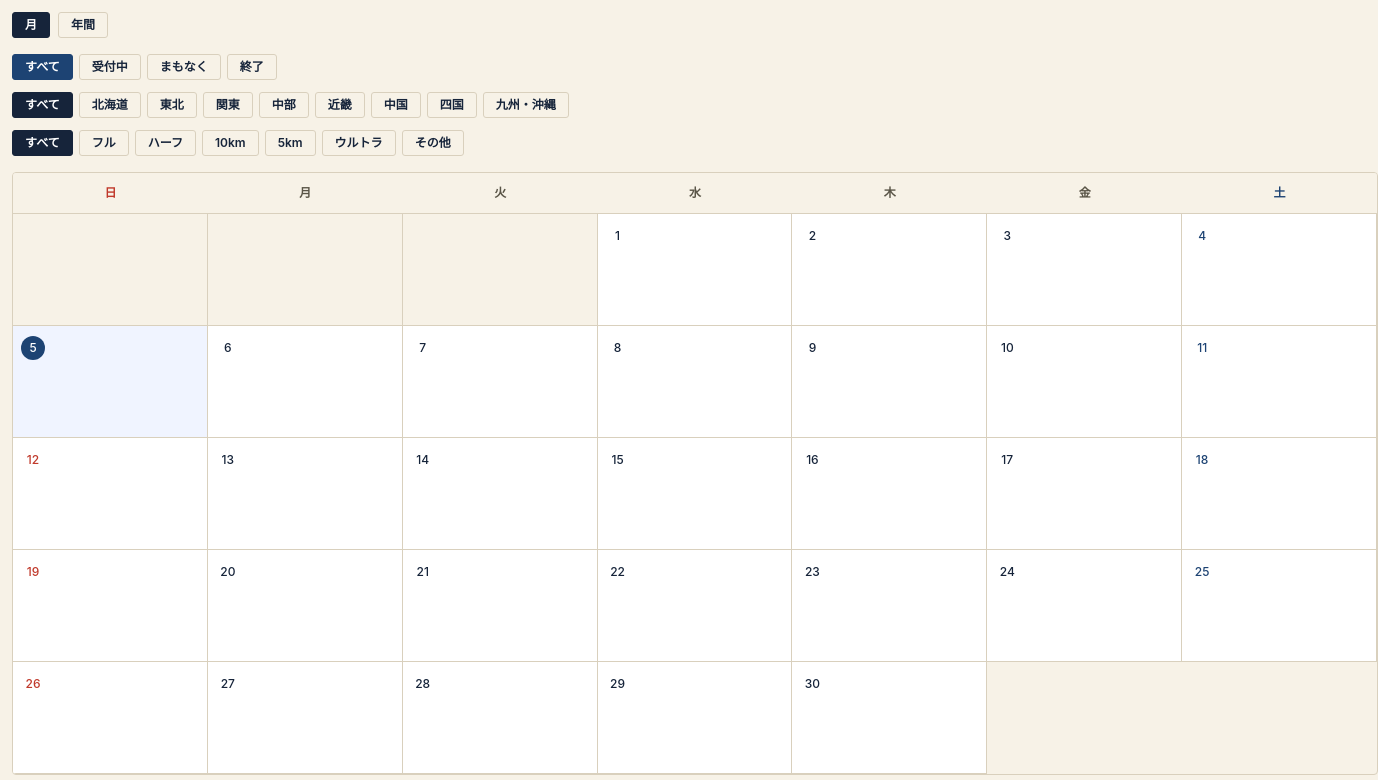
Scenario: CalendarView › 月表示ボタンでMonthGridに戻る
Click the button "年間". click: click(83, 25)
box: [58,12,108,38]
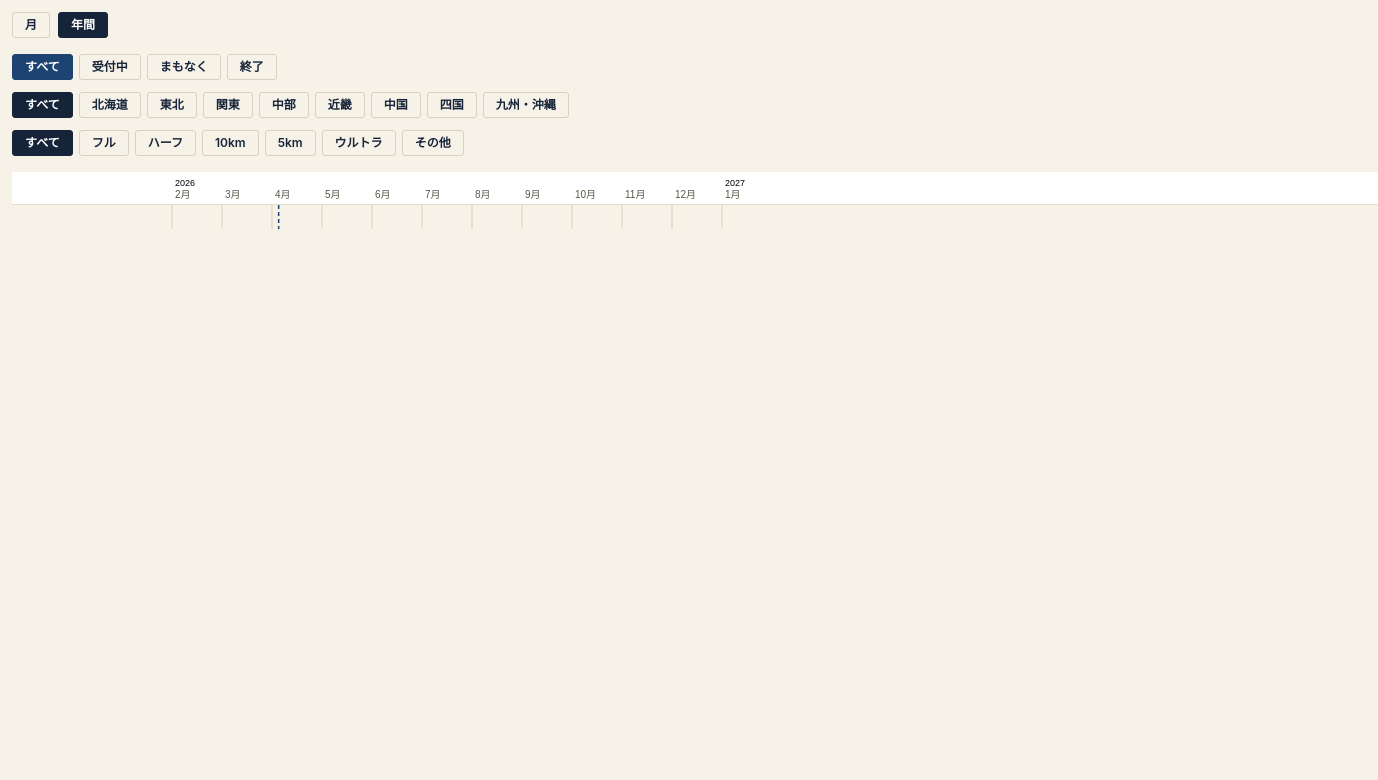
Click the button "月". click: click(31, 25)
box: [12,12,50,38]
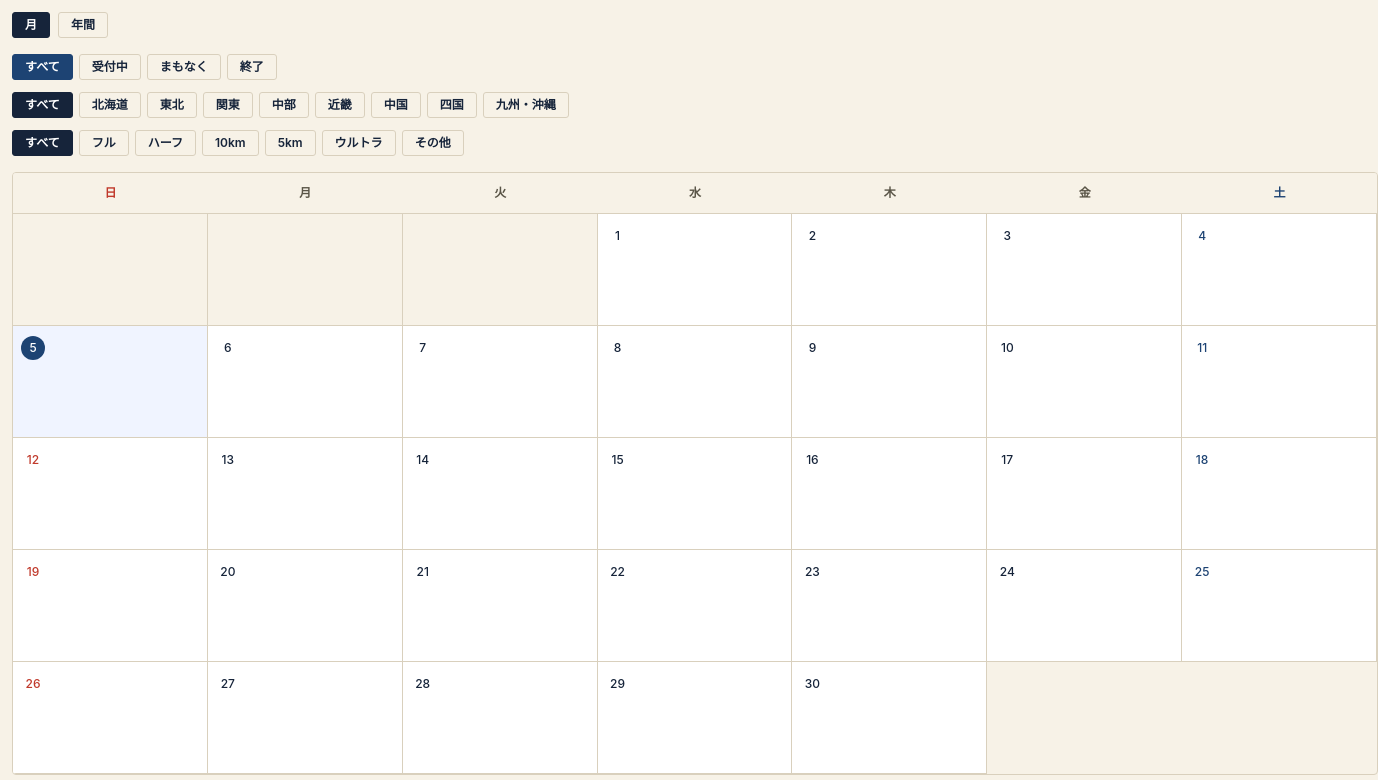
Check: the element with class "grid-cols-7" showing "日 月 火 水 木 金 土" is shown, box [13,173,1377,214]
